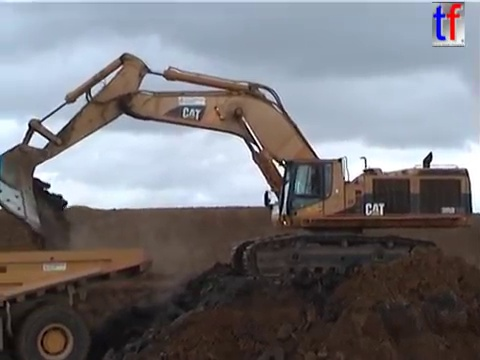excavator: (1, 50, 476, 291)
truck: (1, 245, 155, 360)
